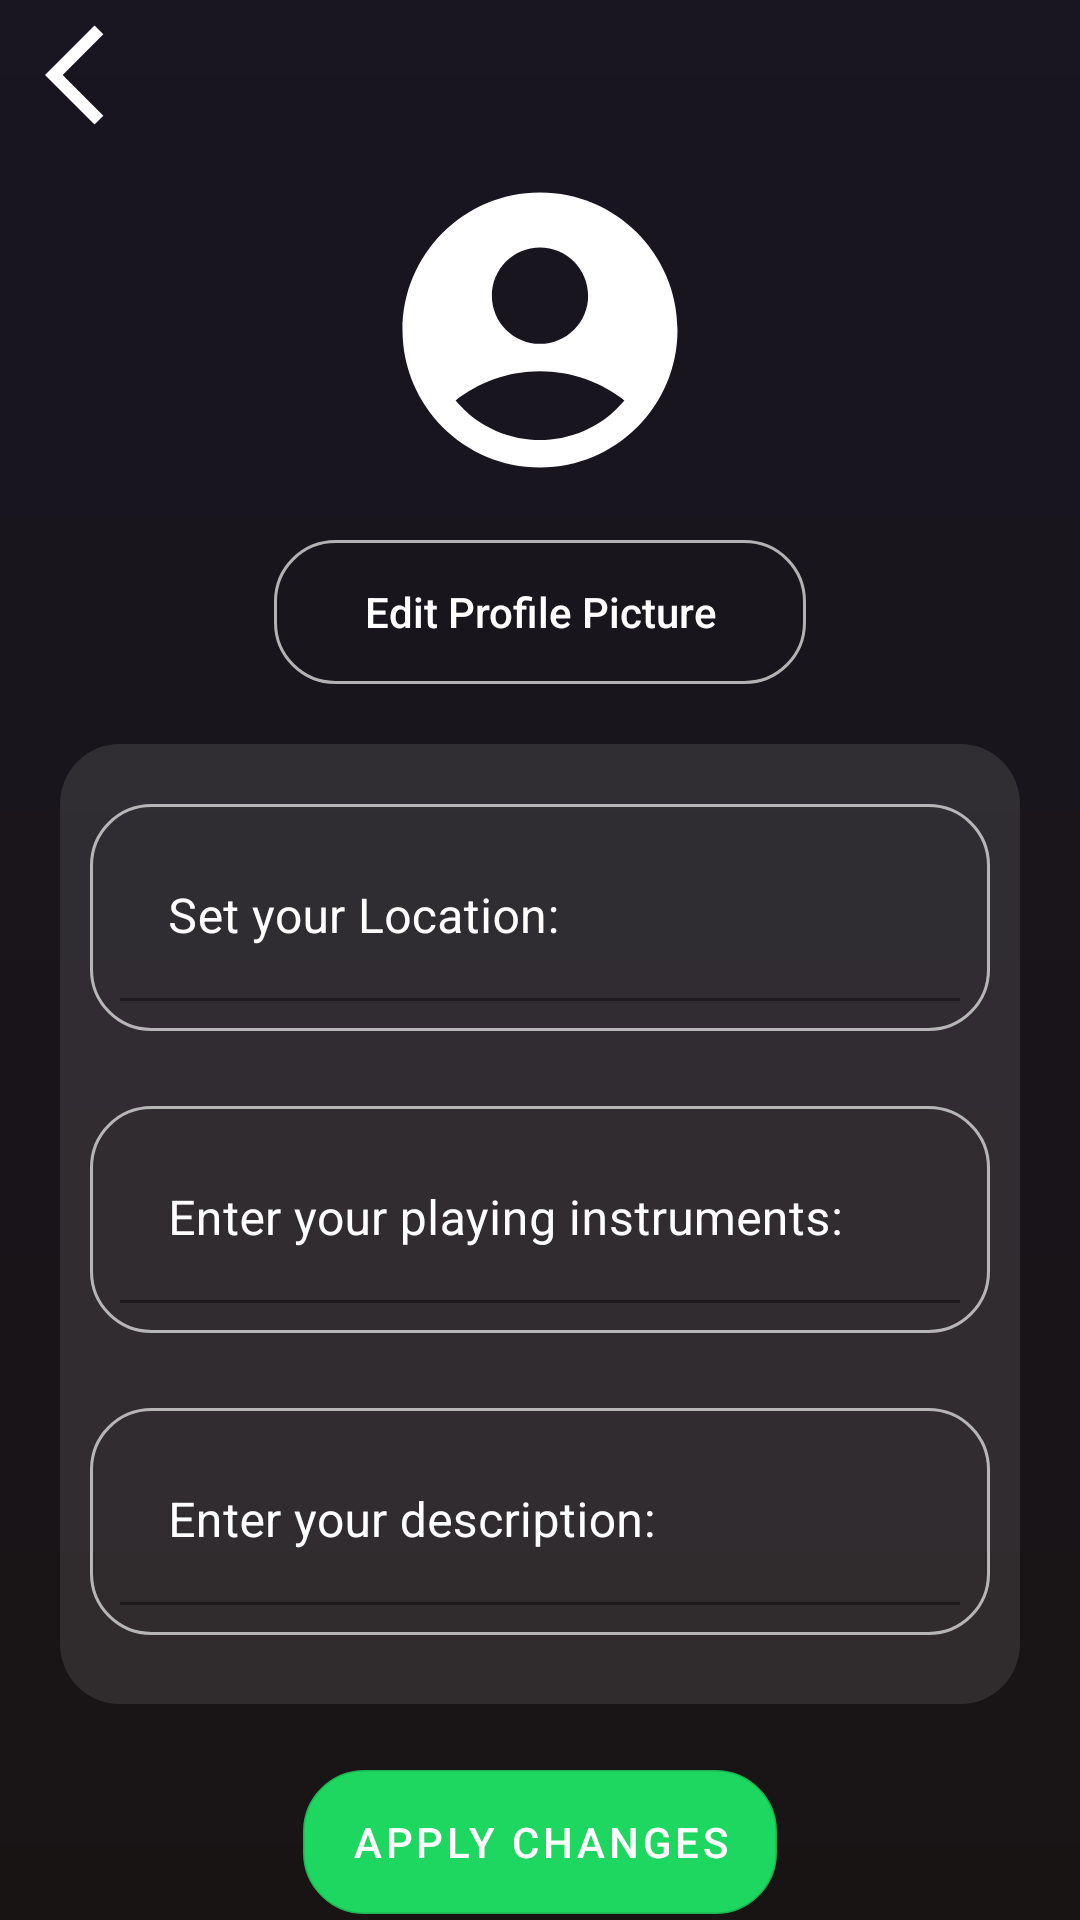

Screen size 1080px×1920px. Icon name, then its center in pixels as [x,y]:
account circle: [540,330]
